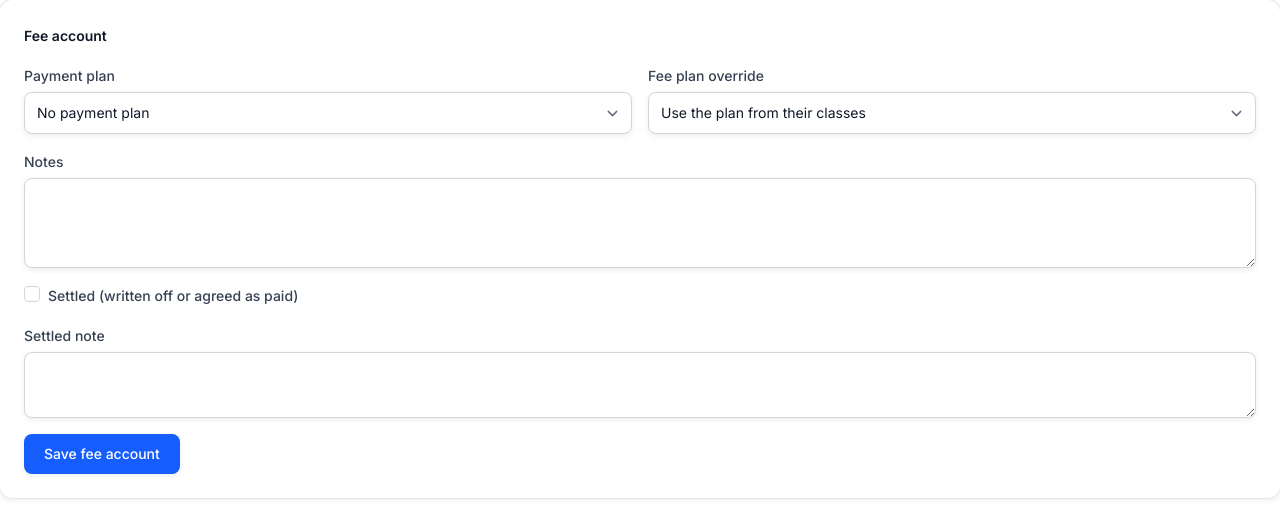
Test: StudentFeesForm › submits, confirms the save and hands back the saved account
Select "Monthly" in the dropdown labelled "Payment plan" at coordinates (328, 113), box [24,92,632,134]
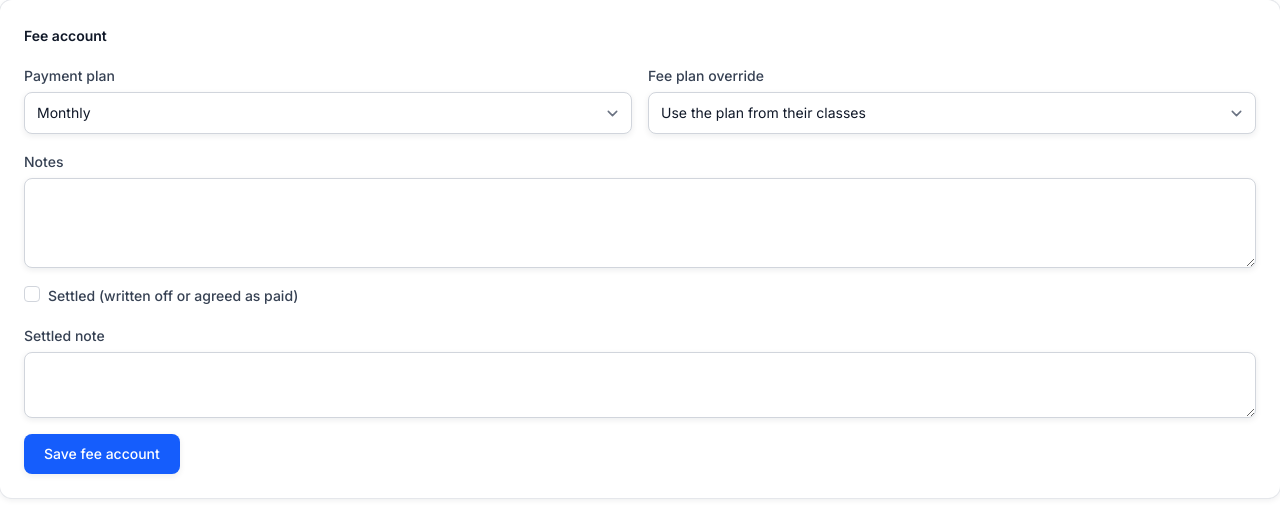
Click the button "Save fee account" at coordinates (102, 454), box [24,434,180,474]
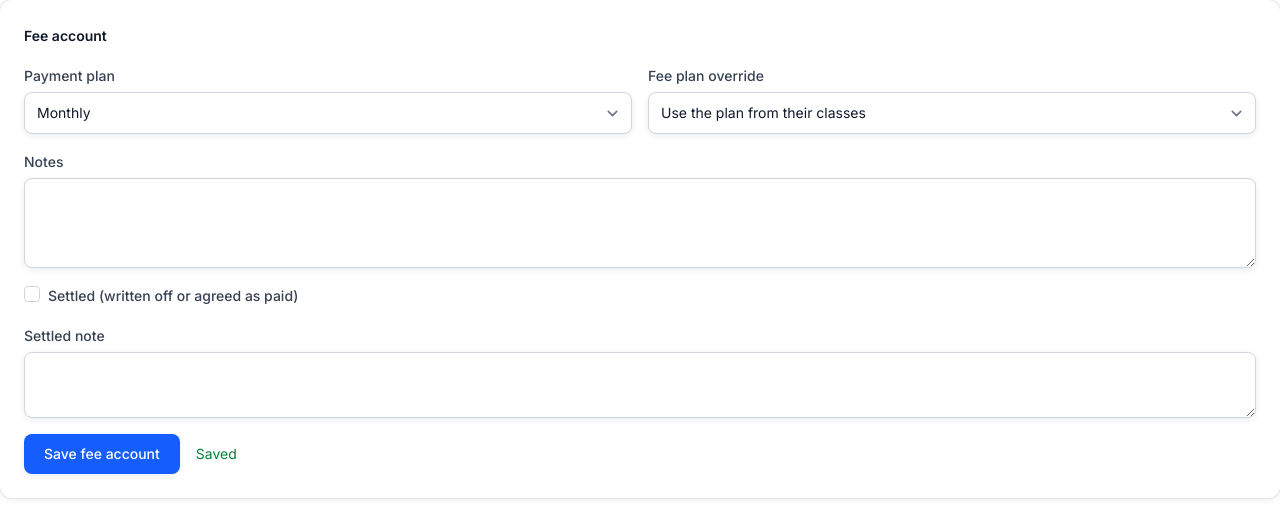
Expected: the message reads "Saved", [196,445,237,462]
